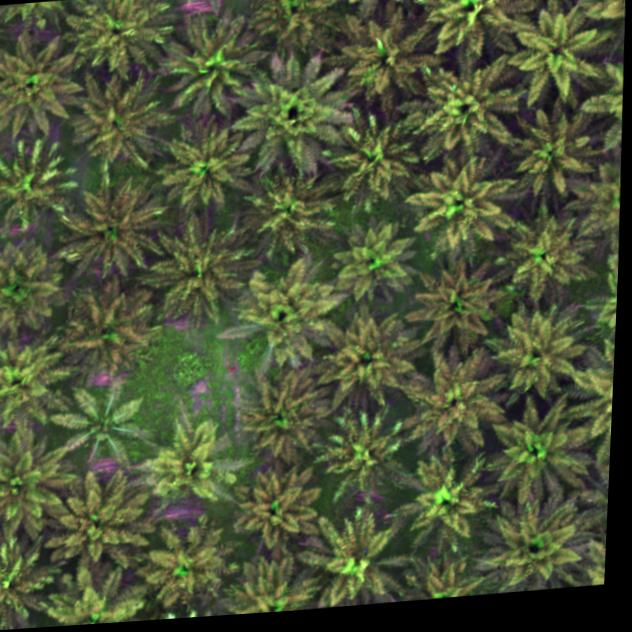oilpalm: (234, 50, 359, 177), (403, 62, 531, 172), (475, 399, 589, 513), (142, 216, 254, 327), (66, 72, 178, 182), (486, 293, 590, 411), (321, 294, 424, 413), (140, 408, 252, 517), (407, 151, 518, 260), (51, 465, 160, 575), (409, 245, 510, 361), (235, 257, 340, 367), (402, 356, 508, 460), (55, 187, 164, 288), (500, 98, 598, 210), (224, 464, 332, 558), (504, 0, 601, 104), (305, 510, 405, 610), (477, 502, 584, 595), (396, 454, 501, 547), (67, 0, 180, 86), (139, 518, 238, 615), (0, 28, 84, 140), (163, 22, 260, 115), (0, 425, 79, 538), (334, 14, 433, 104), (70, 288, 162, 384), (0, 128, 85, 230), (238, 375, 335, 464), (242, 174, 340, 262), (498, 211, 591, 303), (0, 324, 80, 430), (322, 410, 413, 501), (334, 222, 426, 309), (58, 384, 148, 472), (161, 134, 256, 216), (0, 234, 73, 334), (412, 0, 533, 59), (245, 0, 345, 64), (341, 119, 417, 200), (0, 536, 59, 632)
